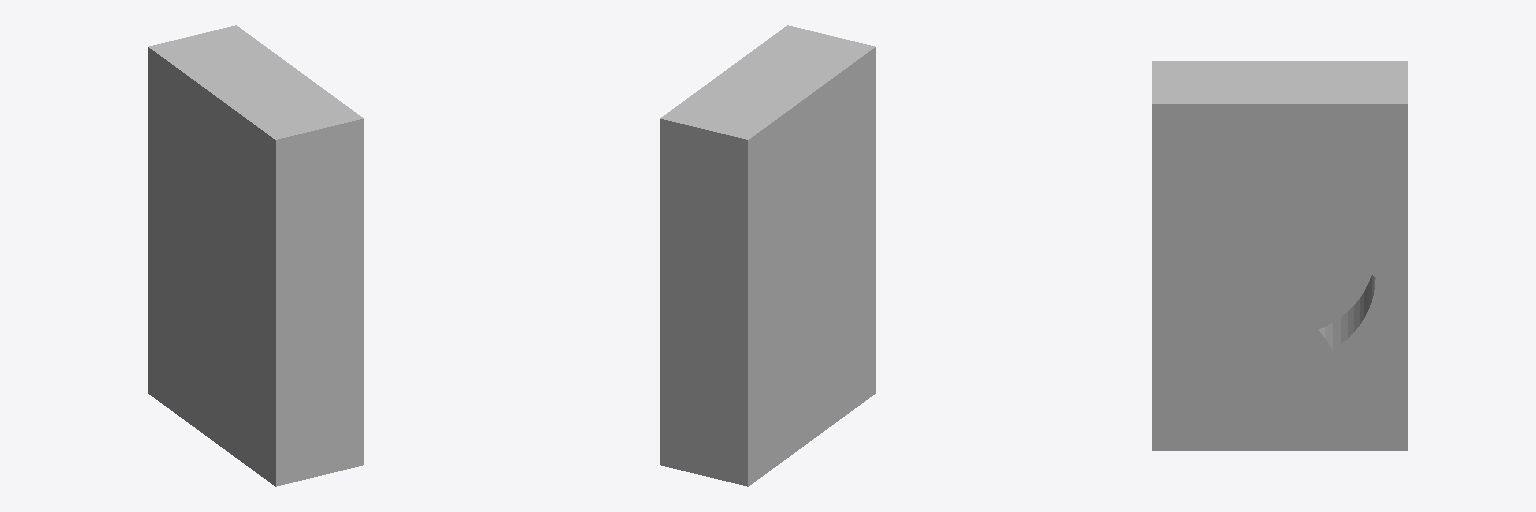
File: verticalHole.obj
3 views of the same model, side by side, from view 1: azimuth 30°, elevation 25°; view 2: azimuth 150°, elevation 25°; view 3: azimuth 270°, elevation 25° (orthographic).
Parts seen in each view (by area): view 1: Cube; view 2: Cube; view 3: Cube.
Boxes of the visible parts, x1=… form: Cube: x1=148, y1=25, x2=363, y2=486; Cube: x1=660, y1=25, x2=875, y2=486; Cube: x1=1152, y1=61, x2=1407, y2=450.
Size of the model in its own units: 0.16 by 0.6 by 0.4.